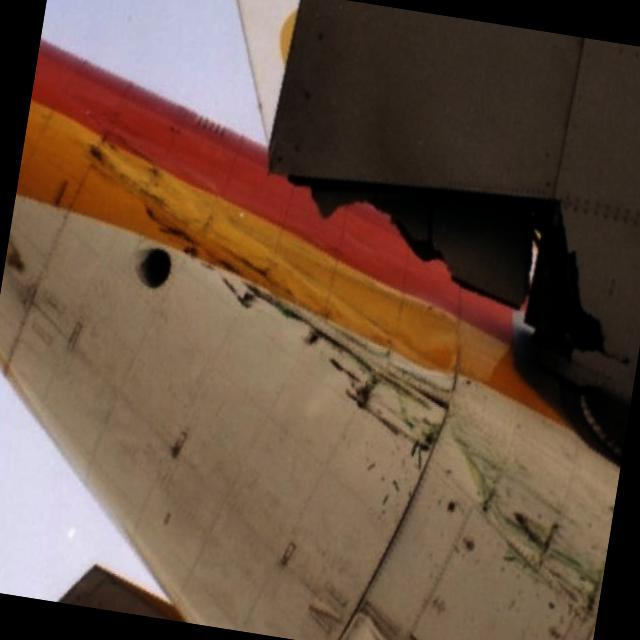crack: (254, 150, 640, 368)
